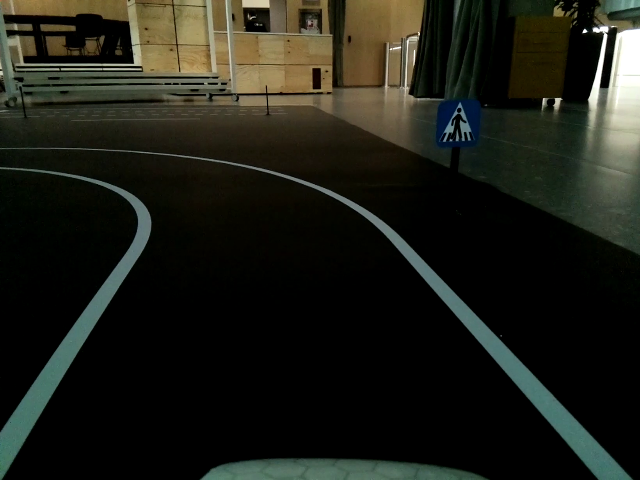pedestrians: (436, 101, 478, 147)
